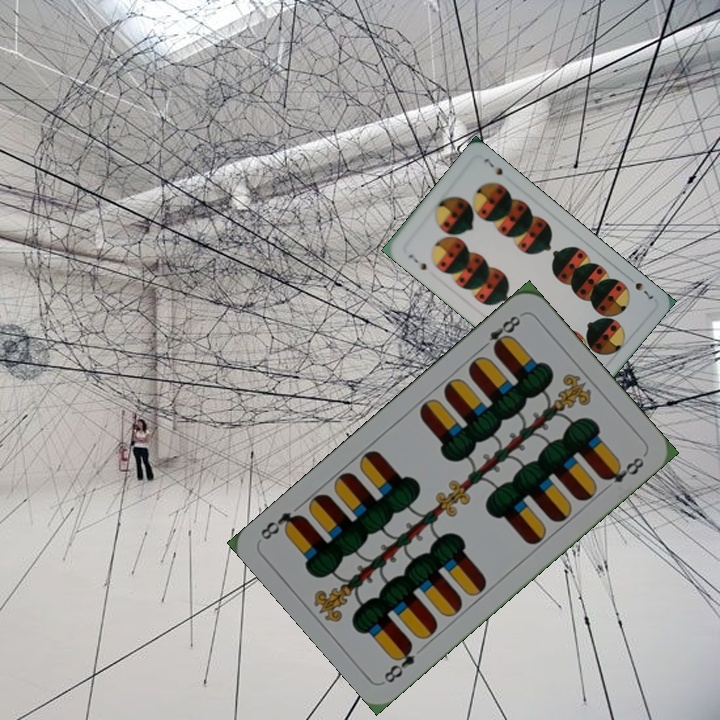E8: (476, 311, 523, 355), (380, 639, 417, 686)
S7: (631, 278, 656, 302), (404, 250, 430, 273)
